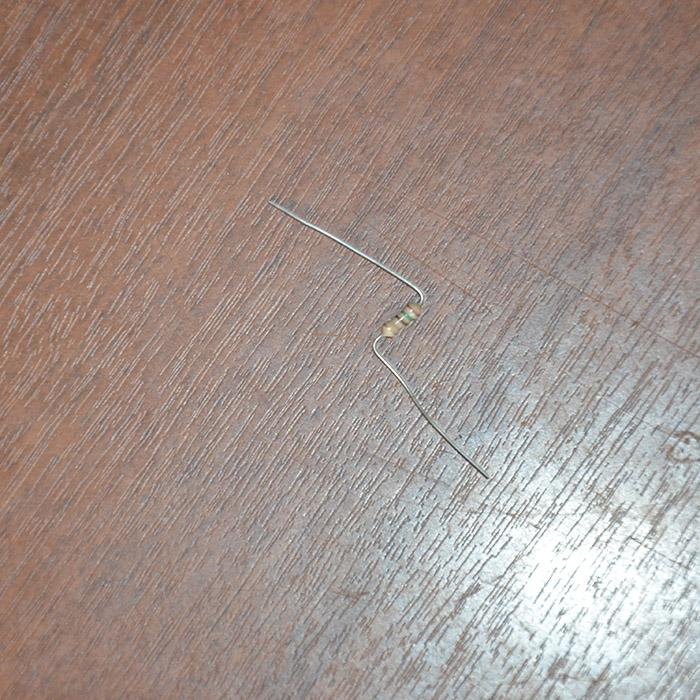resistor: (379, 301, 420, 338)
